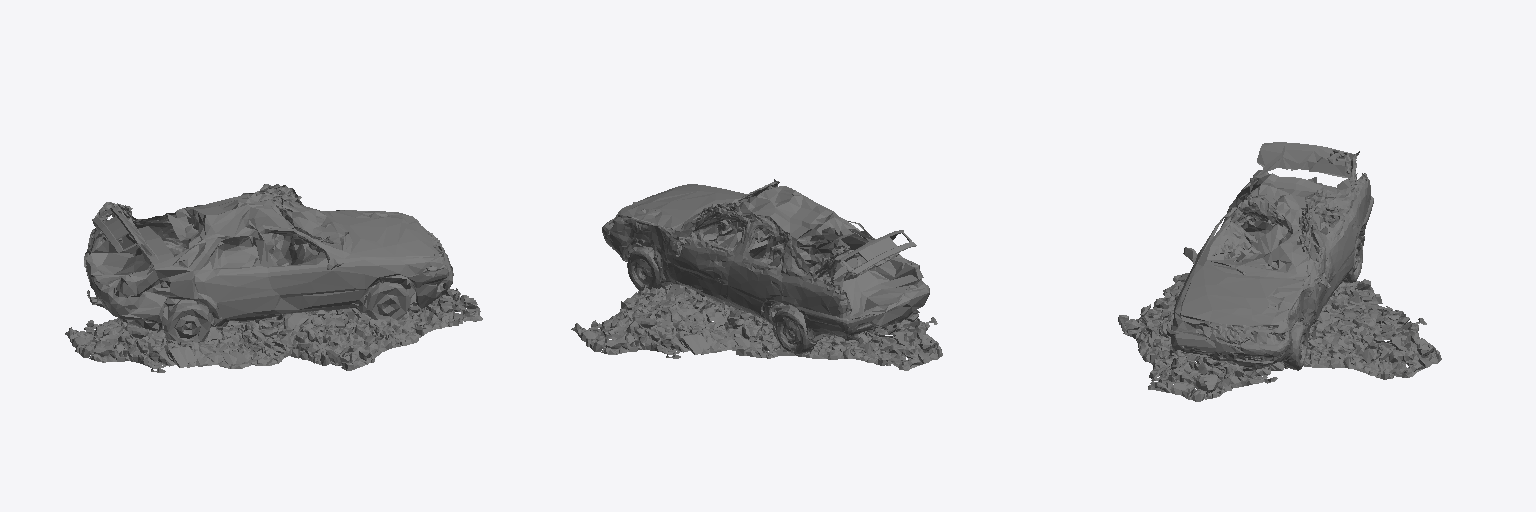
The model's file is AM165_076_Scanline.obj.
The picture shows the model from 3 angles: view 1: azimuth 30°, elevation 25°; view 2: azimuth 150°, elevation 25°; view 3: azimuth 270°, elevation 25°; orthographic projection.
Visible parts, largest first — view 1: AM165_076; view 2: AM165_076; view 3: AM165_076.
Part boxes in pixels (bbox=[...]): AM165_076: bbox=[65, 184, 482, 372]; AM165_076: bbox=[571, 179, 942, 370]; AM165_076: bbox=[1118, 142, 1441, 401].
Bounding box in the file's own units: 441 × 152 × 353.